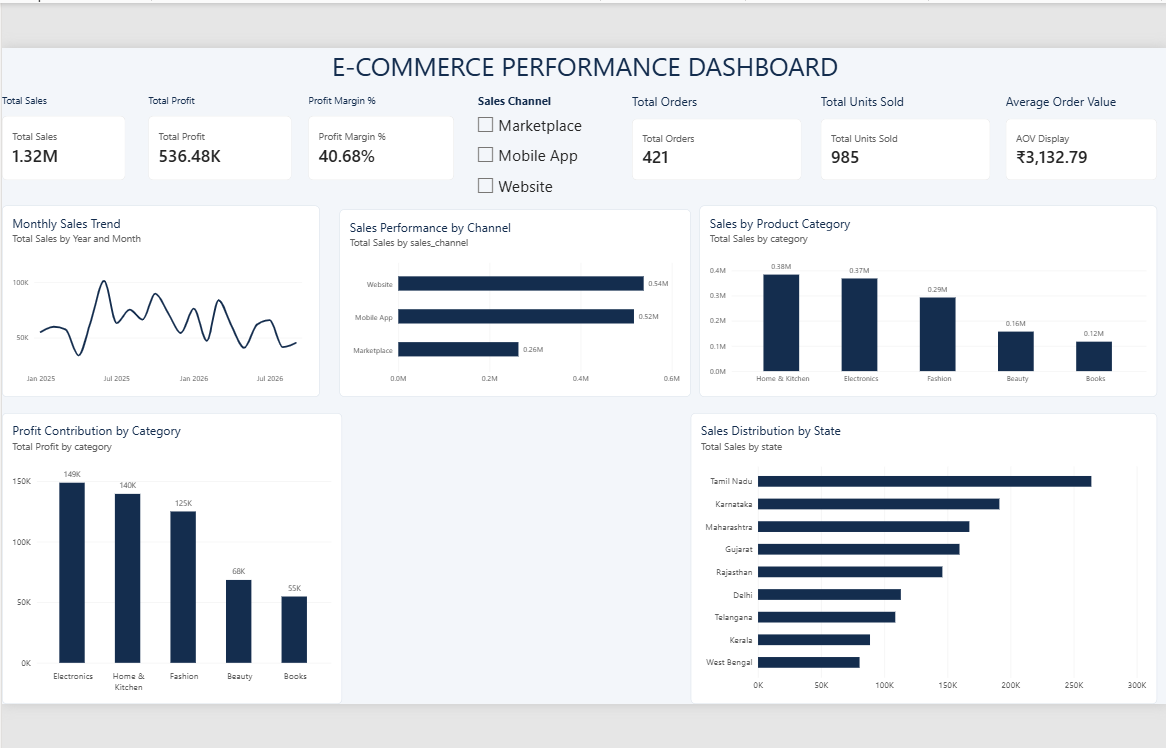

This screenshot's page, from the dashboard's own definition file:
{"tool":"powerbi","page":{"name":"Executive Overview","canvas":[1920,1080],"ordinal":0},"visuals":[{"type":"cardVisual","title":"Total Sales","fields":{"Data":["Orderitems.Total Sales"]},"box":[0,74.1,203.8,144.1],"z":0},{"type":"cardVisual","title":"Total Profit","fields":{"Data":["Orderitems.Total Profit"]},"box":[240.8,74.1,236.7,144.1],"z":1000},{"type":"cardVisual","title":"Profit Margin %","fields":{"Data":["Orderitems.Profit Margin %"]},"box":[504.3,74.1,240.8,144.1],"z":2000},{"type":"cardVisual","title":"Total Orders","fields":{"Data":["Orders.Total Orders"]},"box":[1037.4,74.1,279.9,144.1],"z":3000},{"type":"cardVisual","title":"Average Order Value","fields":{"Data":["Orders.AOV Display"]},"box":[1652.8,74.1,249.1,144.1],"z":4000},{"type":"lineChart","title":"Monthly Sales Trend","fields":{"Category":["Orders.order_date.Variation.Date Hierarchy.Year","Orders.order_date.Variation.Date Hierarchy.Month"],"Y":["Orderitems.Total Sales"]},"box":[0,259.3,522.8,314.9],"z":5000},{"type":"cardVisual","title":"Total Units Sold","fields":{"Data":["Orders.Total Units Sold"]},"box":[1348.2,74.1,279.9,144.1],"z":6000},{"type":"clusteredBarChart","title":"Sales Performance by Channel","fields":{"Category":["Orders.sales_channel"],"Y":["Orderitems.Total Sales"]},"box":[555.7,265.5,578.4,308.7],"z":7000},{"type":"clusteredColumnChart","title":"Sales by Product Category","fields":{"Category":["Products.category"],"Y":["Orderitems.Total Sales"]},"box":[1148.5,259.3,753.3,314.9],"z":8000},{"type":"columnChart","title":"Profit Contribution by Category","fields":{"Category":["Products.category"],"Y":["Orderitems.Total Profit"]},"box":[0,601,559.9,479.6],"z":9000},{"type":"clusteredBarChart","title":"Sales Distribution by State","fields":{"Category":["Customers.state"],"Y":["Orderitems.Total Sales"]},"box":[1134.1,601,767.8,479.6],"z":10000},{"type":"slicer","fields":{"Values":["Orders.sales_channel"]},"box":[776,74.1,228.5,185.2],"z":11000},{"type":"textbox","box":[0,0,1920.4,74.1],"z":12000}]}

Visuals, with their boxes on the page's 1920x1080 design canvas (x1, y1, x2, y2). These are canvas units, not pixel positions in the 1166x748 screenshot, which may show the page scaled, cropped or inside an application window:
"Total Sales" cardVisual: bbox(0, 74, 204, 218)
"Total Profit" cardVisual: bbox(241, 74, 478, 218)
"Profit Margin %" cardVisual: bbox(504, 74, 745, 218)
"Total Orders" cardVisual: bbox(1037, 74, 1317, 218)
"Average Order Value" cardVisual: bbox(1653, 74, 1902, 218)
"Monthly Sales Trend" lineChart: bbox(0, 259, 523, 574)
"Total Units Sold" cardVisual: bbox(1348, 74, 1628, 218)
"Sales Performance by Channel" clusteredBarChart: bbox(556, 266, 1134, 574)
"Sales by Product Category" clusteredColumnChart: bbox(1148, 259, 1902, 574)
"Profit Contribution by Category" columnChart: bbox(0, 601, 560, 1081)
"Sales Distribution by State" clusteredBarChart: bbox(1134, 601, 1902, 1081)
slicer - Orders.sales_channel: bbox(776, 74, 1004, 259)
textbox: bbox(0, 0, 1920, 74)
